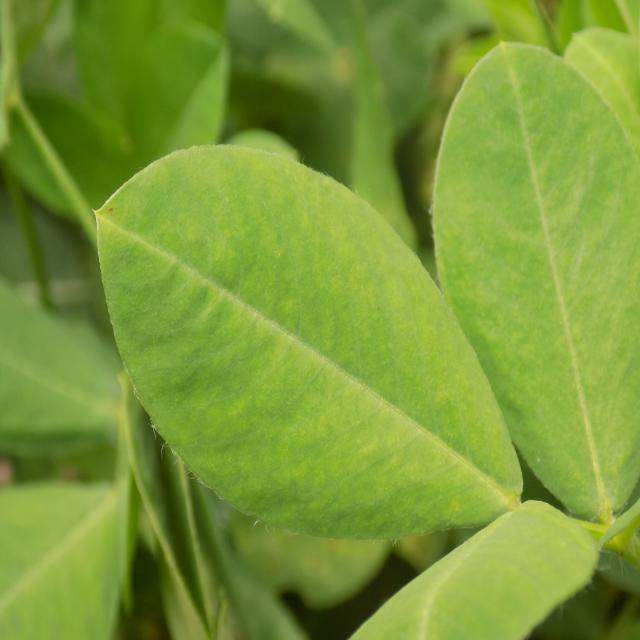Ground nut_healthy: (93, 138, 521, 541), (437, 35, 640, 533)
